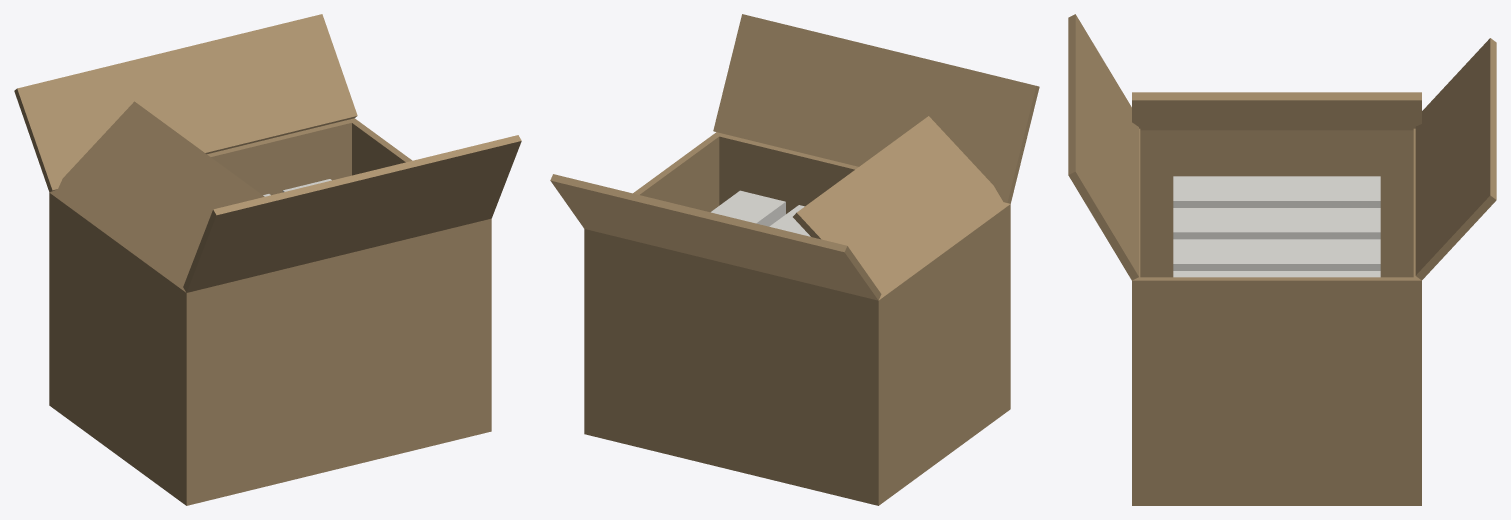
File: cardboard_box.fbx
The picture shows the model from 3 angles, left to right: view 1: azimuth 30°, elevation 25°; view 2: azimuth 150°, elevation 25°; view 3: azimuth 270°, elevation 25°; orthographic projection. The views are drawn at different scales.
Parts seen in each view (by area): view 1: cardboard_box; view 2: cardboard_box; view 3: cardboard_box.
Part boxes in pixels (x1,y1,x2,y2): cardboard_box: (14,14,521,505); cardboard_box: (550,14,1039,505); cardboard_box: (1068,14,1496,505).
Bounding box in the file's own units: 0.45 × 0.4452 × 0.5169.
